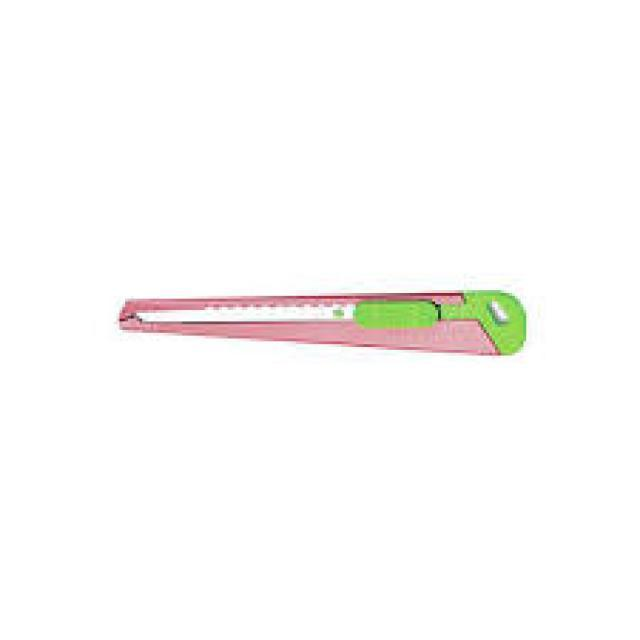cutter: (104, 280, 538, 352)
